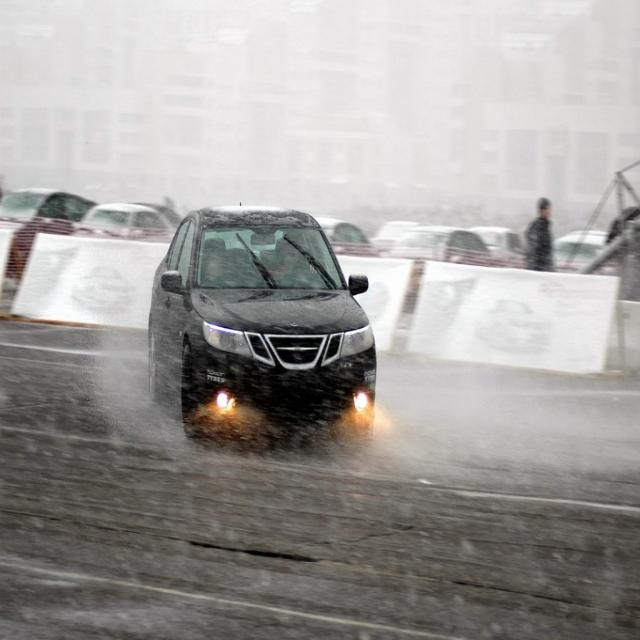car: (148, 205, 383, 450)
